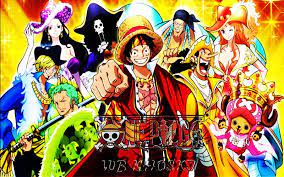chopper: (221, 93, 271, 137)
luffy: (113, 16, 164, 69)
